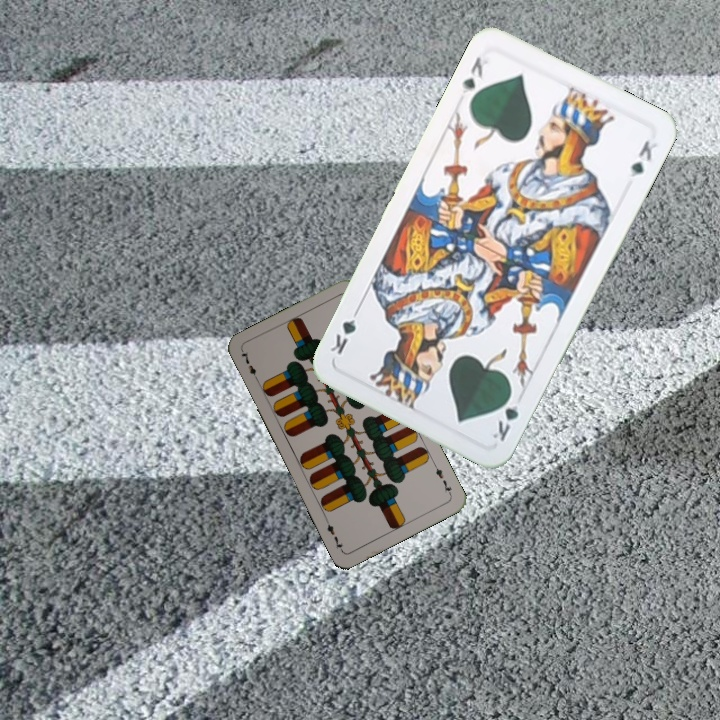E7: (237, 347, 262, 385), (430, 460, 454, 498)
GK: (488, 387, 524, 444), (457, 52, 486, 97)
